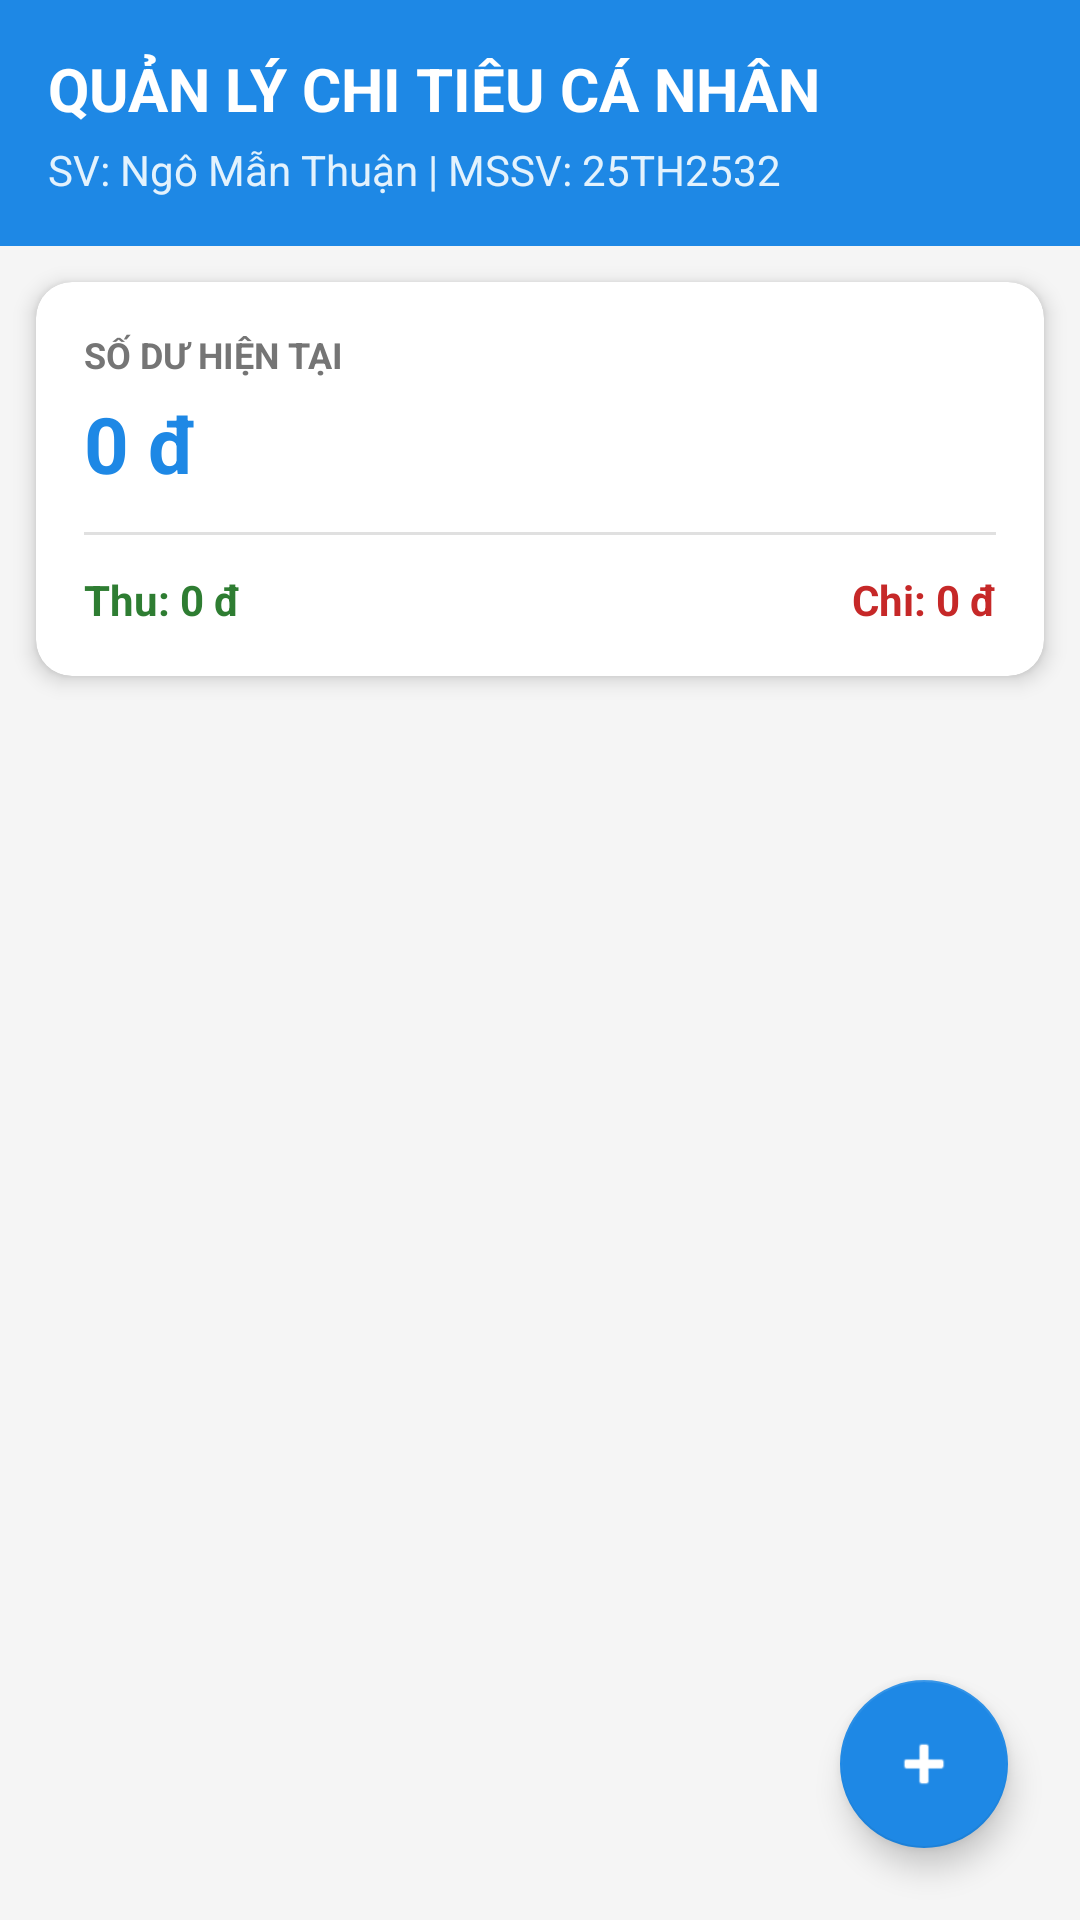

Where icons sit on this 1080 x 1920 app screen, as [left=x1, top=y1, right=x2, bottom=y2]:
Thêm khoản thu chi: [left=840, top=1680, right=1008, bottom=1848]
